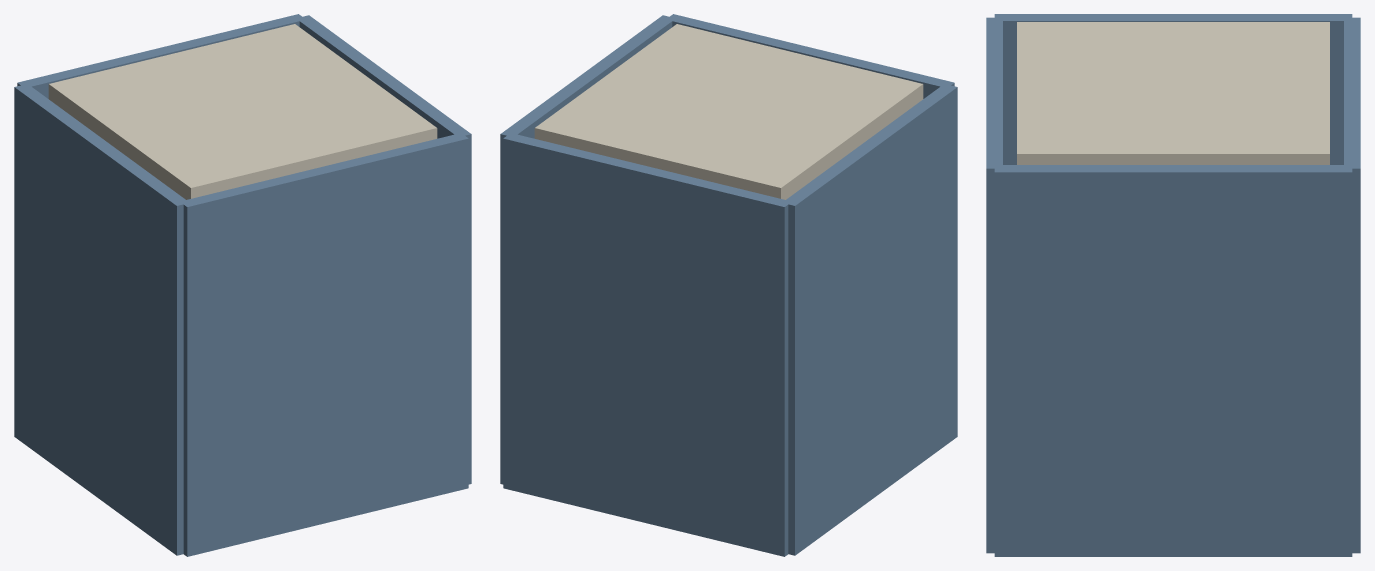
Rendered from mov_0e876d1f0e.gltf.
3 renders of one model, left to right at view 1: azimuth 30°, elevation 25°; view 2: azimuth 150°, elevation 25°; view 3: azimuth 270°, elevation 25°, orthographic. The views are drawn at different scales.
Visible parts, largest first — view 1: mov_0e876d1f0e; view 2: mov_0e876d1f0e; view 3: mov_0e876d1f0e.
Boxes of the visible parts, <box> form: mov_0e876d1f0e: <box>14,14,471,556</box>; mov_0e876d1f0e: <box>500,14,957,556</box>; mov_0e876d1f0e: <box>986,14,1360,556</box>.
Size of the model in its own units: 0.335 by 0.385 by 0.335.
